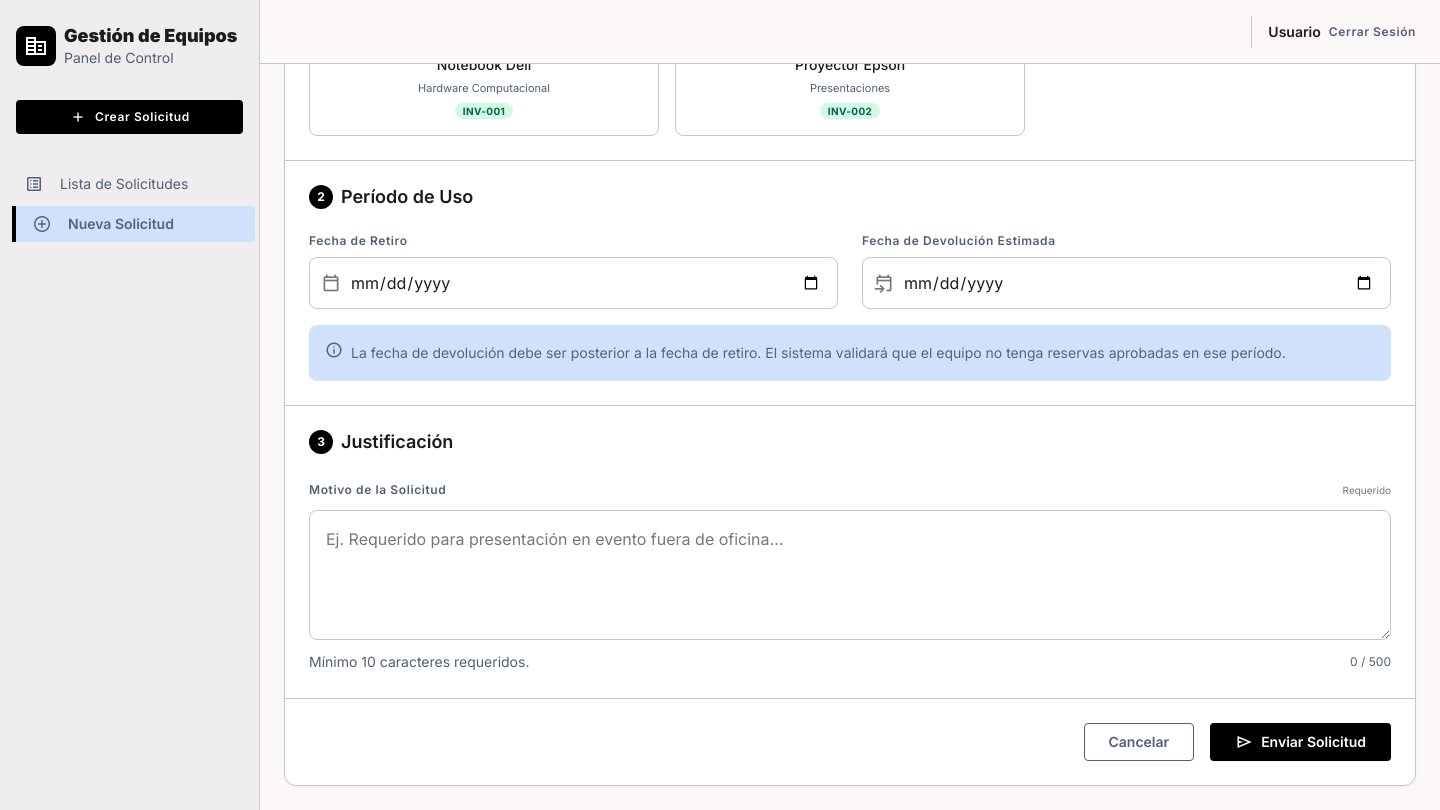
it: NuevaSolicitudPage › muestra el conteo de caracteres del motivo a medida que se escribe
(page scrolled)
Expected: the text "Notebook Dell" is shown, [437,56,531,73]
Type "Necesito el equipo" into the text box labelled "Motivo de la Solicitud" at (850, 575), box [309,510,1391,640]
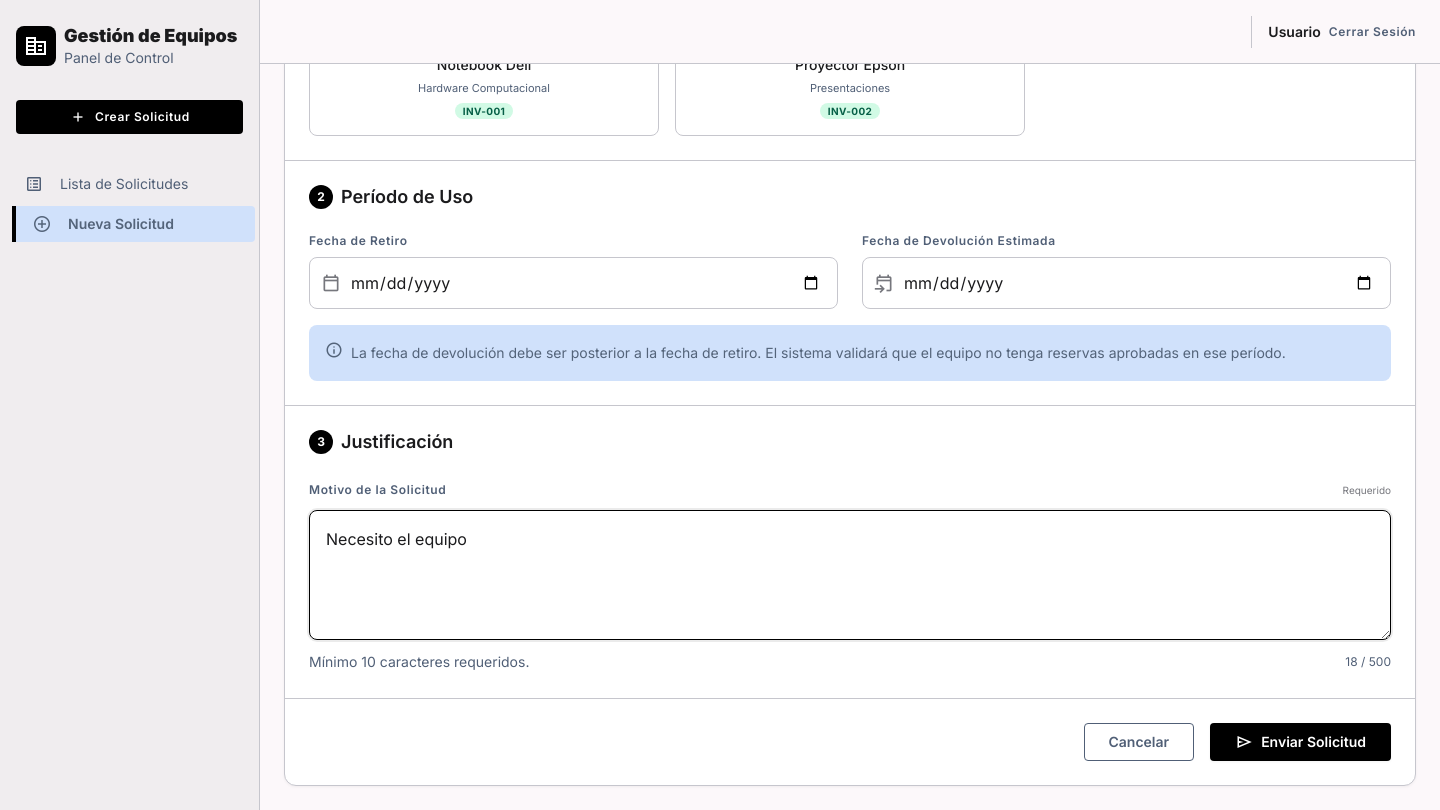
Expected: the text "18 / 500" is shown, [1345,650,1391,674]
